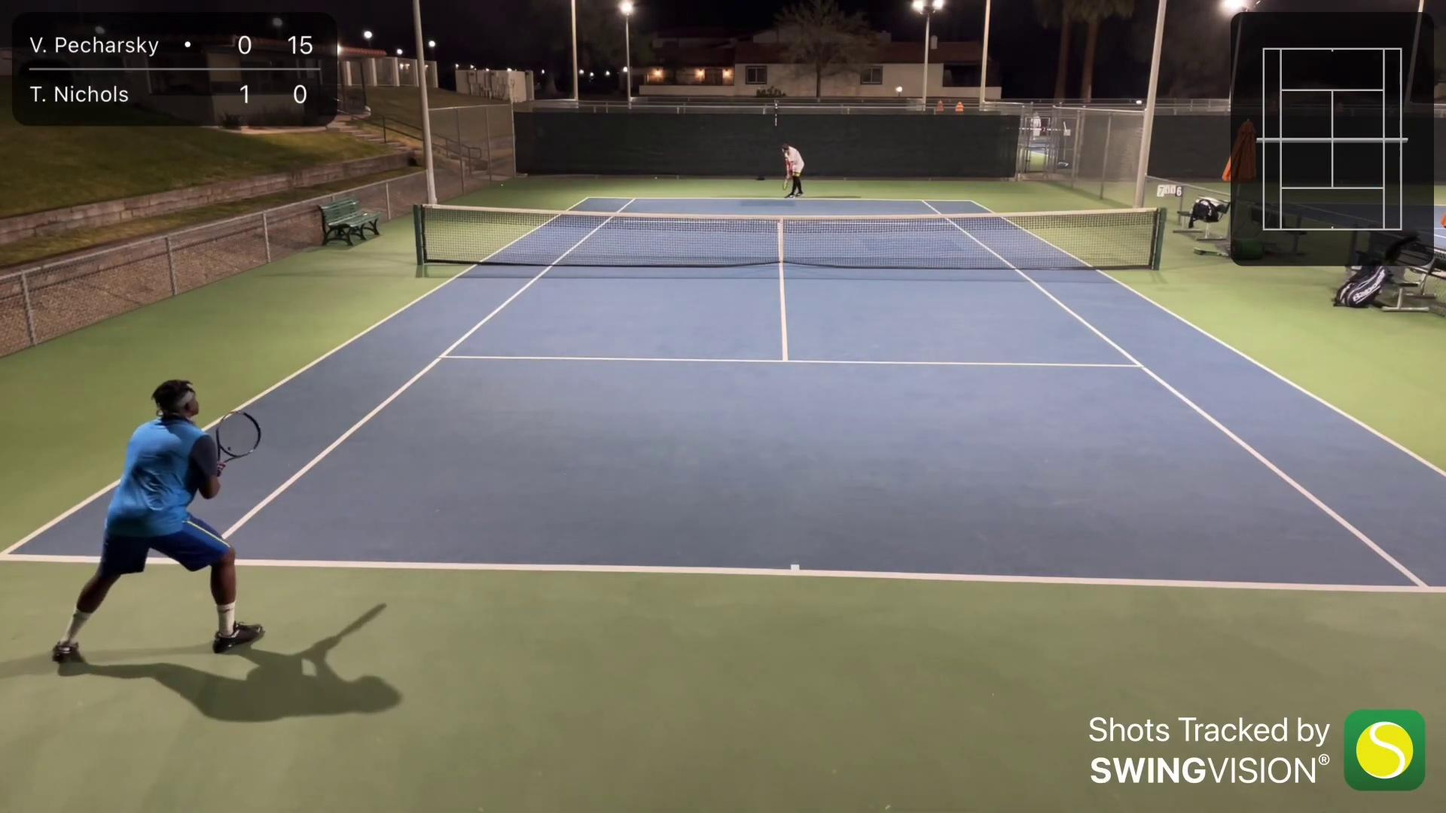ball: (499, 181, 506, 188), (651, 175, 660, 180)
